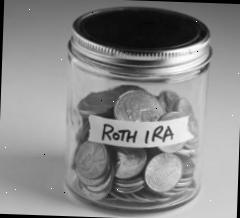glass: (60, 3, 214, 216)
